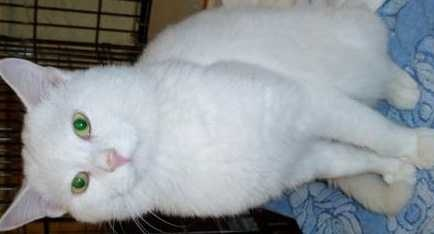Cat: (0, 9, 395, 231)
